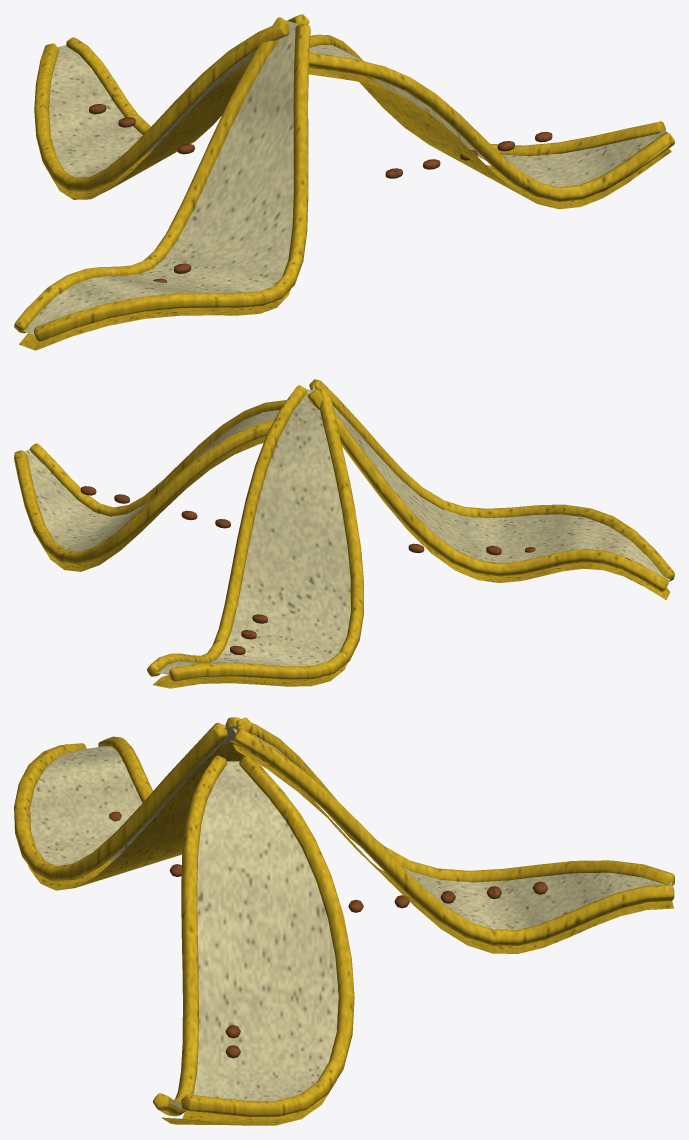
File: food-06-half.glb
3 renders of one model, top to bottom at view 1: azimuth 30°, elevation 25°; view 2: azimuth 150°, elevation 25°; view 3: azimuth 270°, elevation 25°, orthographic. The views are drawn at different scales.
Visible parts, largest first — view 1: Food; view 2: Food; view 3: Food.
Boxes of the visible parts, box(x1,y1,x2,y2) form: Food: box(14, 14, 674, 350); Food: box(14, 379, 674, 688); Food: box(14, 717, 674, 1125).
Size of the model in its own units: 0.8282 by 0.2699 by 0.6286.
1 material, 1 textured.
